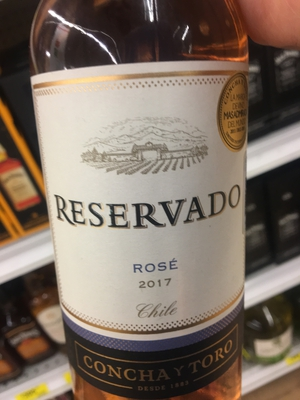reservado rose: (28, 6, 251, 397)
